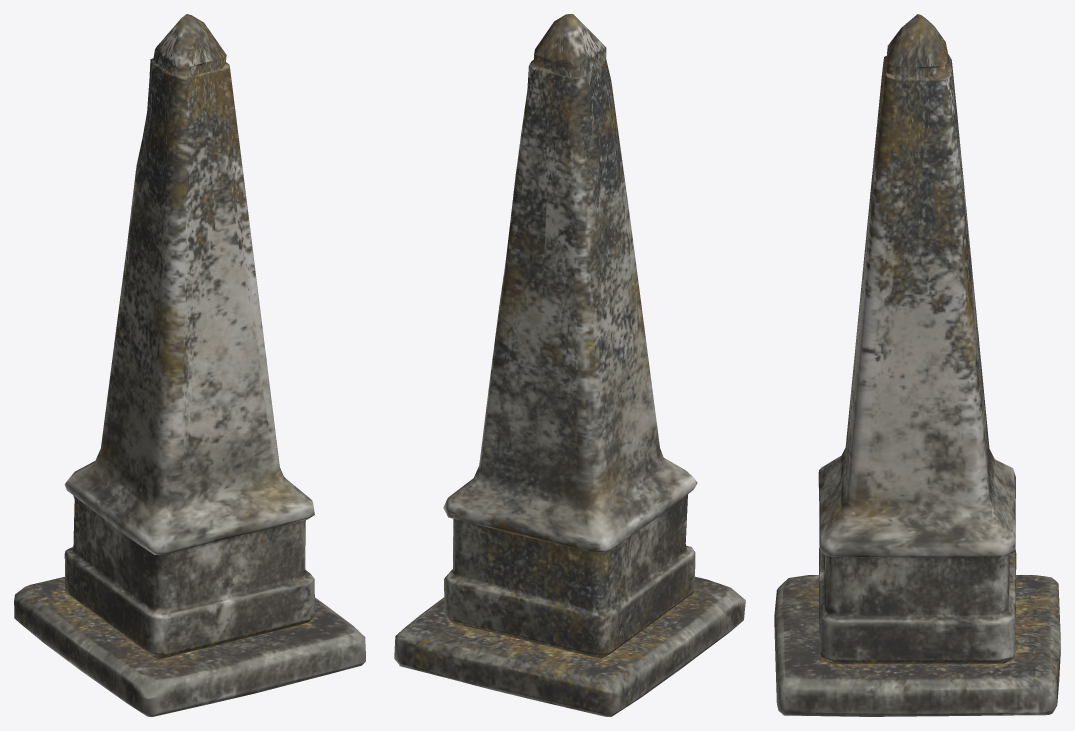
File: SM_Cemetery03.fbx
3 views of the same model, side by side, from view 1: azimuth 30°, elevation 25°; view 2: azimuth 150°, elevation 25°; view 3: azimuth 270°, elevation 25° (orthographic). The views are drawn at different scales.
Visible parts, largest first — view 1: SM_Cemetery03_LOD0; view 2: SM_Cemetery03_LOD0; view 3: SM_Cemetery03_LOD0.
Part boxes in pixels (x1=…): SM_Cemetery03_LOD0: x1=14, y1=14, x2=365, y2=716; SM_Cemetery03_LOD0: x1=394, y1=14, x2=745, y2=716; SM_Cemetery03_LOD0: x1=774, y1=14, x2=1060, y2=716.
Bounding box in the file's own units: 85.72 × 90.69 × 226.
